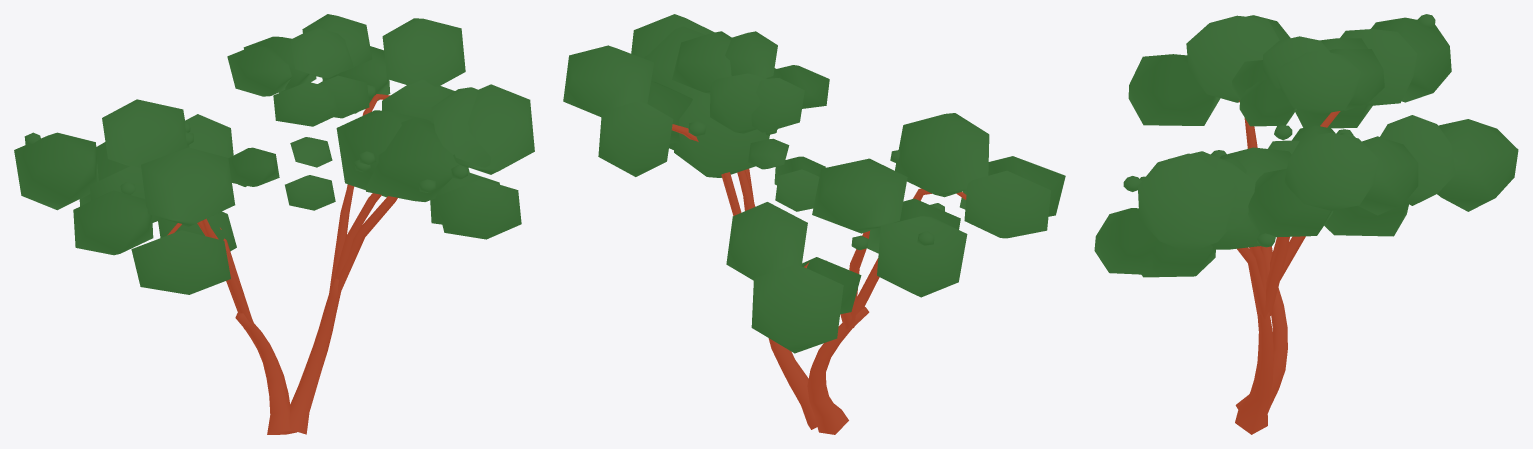
The model's file is Blender_Madrone_2_Far.glb.
3 views of the same model, side by side, from view 1: azimuth 30°, elevation 25°; view 2: azimuth 150°, elevation 25°; view 3: azimuth 270°, elevation 25° (orthographic). The views are drawn at different scales.
Parts seen in each view (by area): view 1: Blender_Madrone_2_Far; view 2: Blender_Madrone_2_Far; view 3: Blender_Madrone_2_Far.
Part boxes in pixels (x1,y1,x2,y2): Blender_Madrone_2_Far: [14, 14, 534, 434]; Blender_Madrone_2_Far: [563, 14, 1065, 434]; Blender_Madrone_2_Far: [1094, 14, 1518, 434].
Bounding box in the file's own units: 14 × 12.02 × 11.05.
